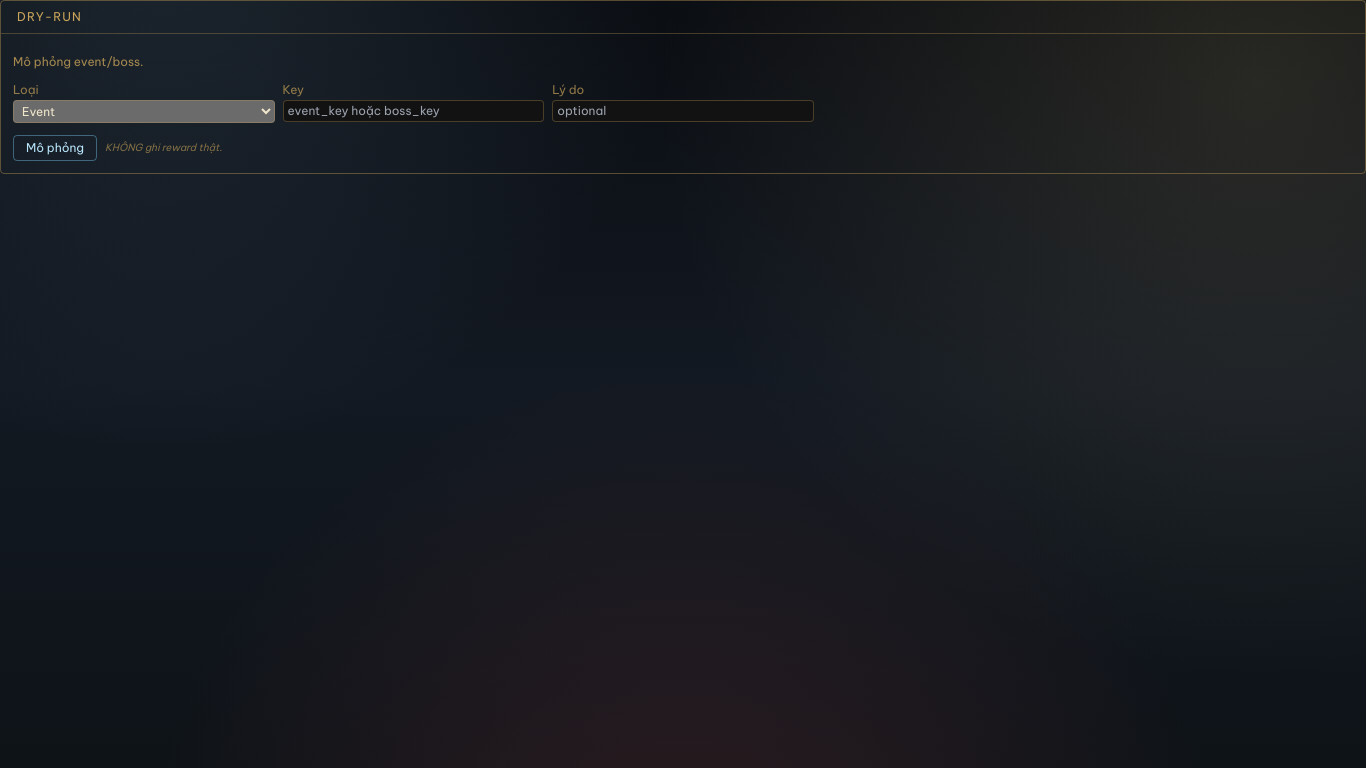
Test case: AdminLiveOpsDryRunPanel › submit boss dry-run: gọi adminLiveOpsDryRun với { kind:"boss", key, regionKey, level, reason } + render boss result
Select "Boss" in the dropdown with test id "admin-liveops-dryrun-kind" at (144, 112), box [13,100,275,123]
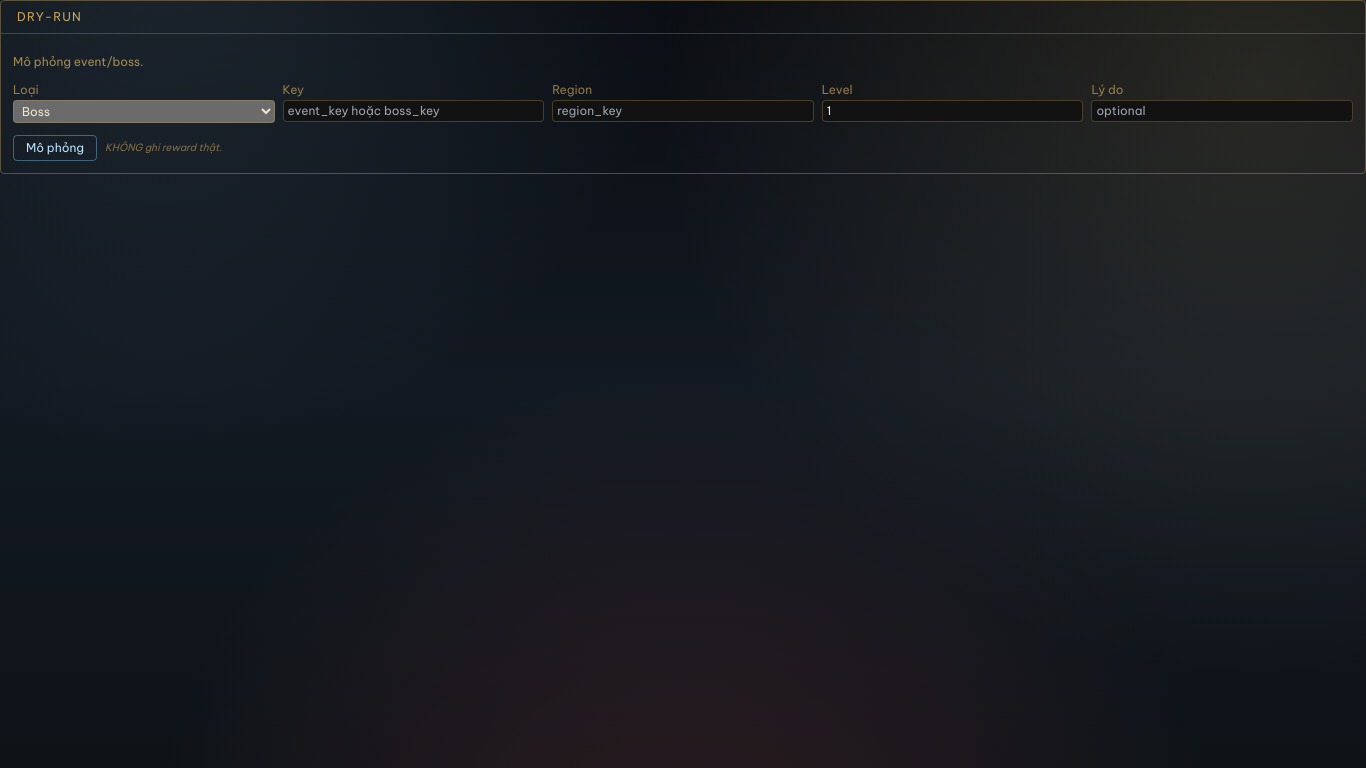
Type "sky_dragon" into the field with test id "admin-liveops-dryrun-key" at (413, 111), box [283,100,544,122]
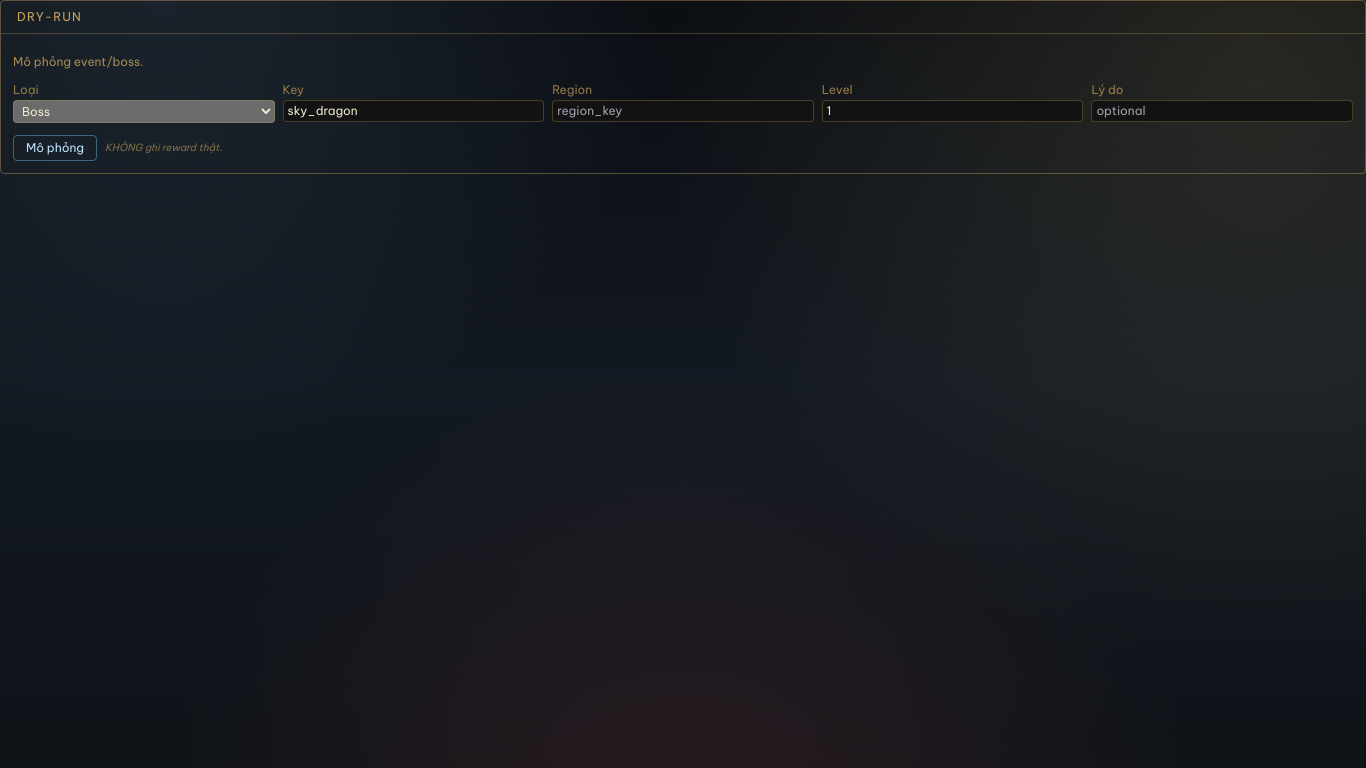
Type "son_coc" into the field with test id "admin-liveops-dryrun-region" at (683, 111), box [552,100,814,122]
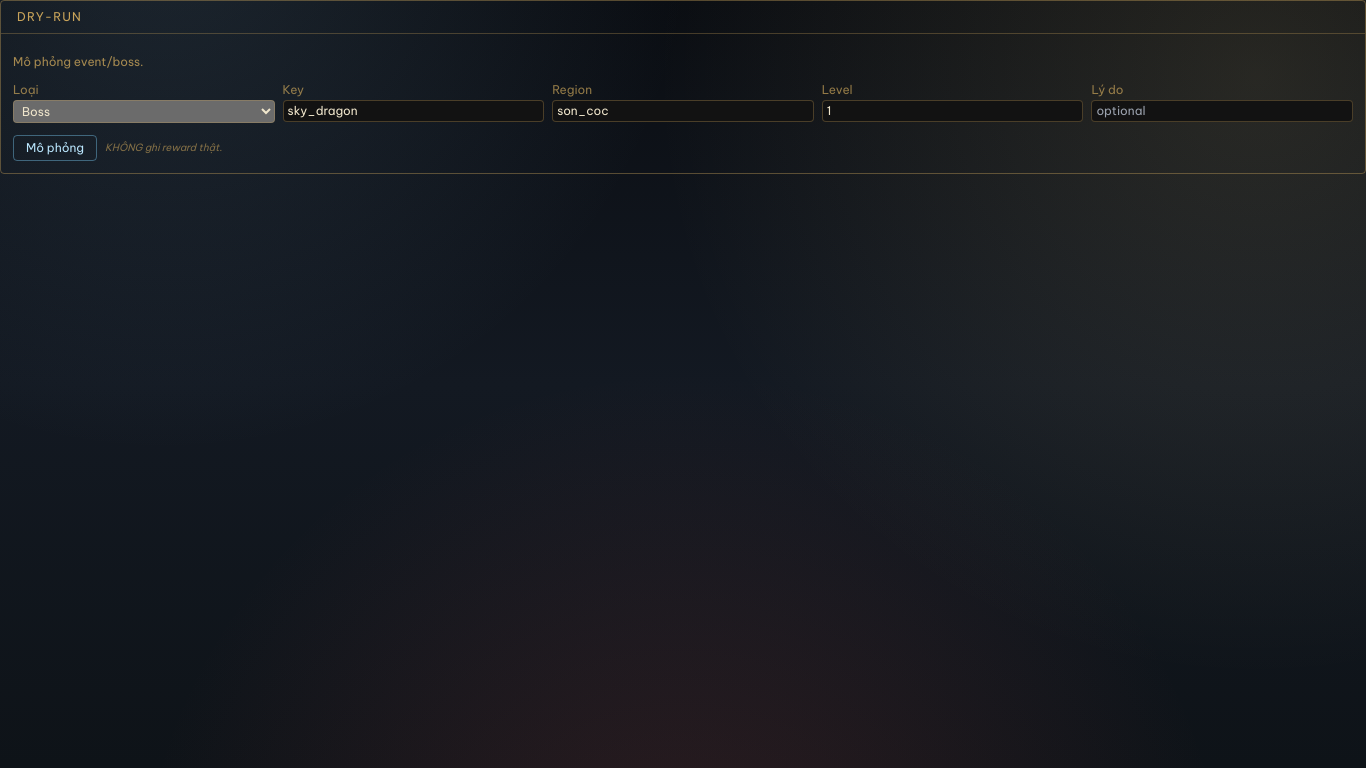
Replace the text in the number field with test id "admin-liveops-dryrun-level" with "5" at (953, 111), box [822,100,1083,122]
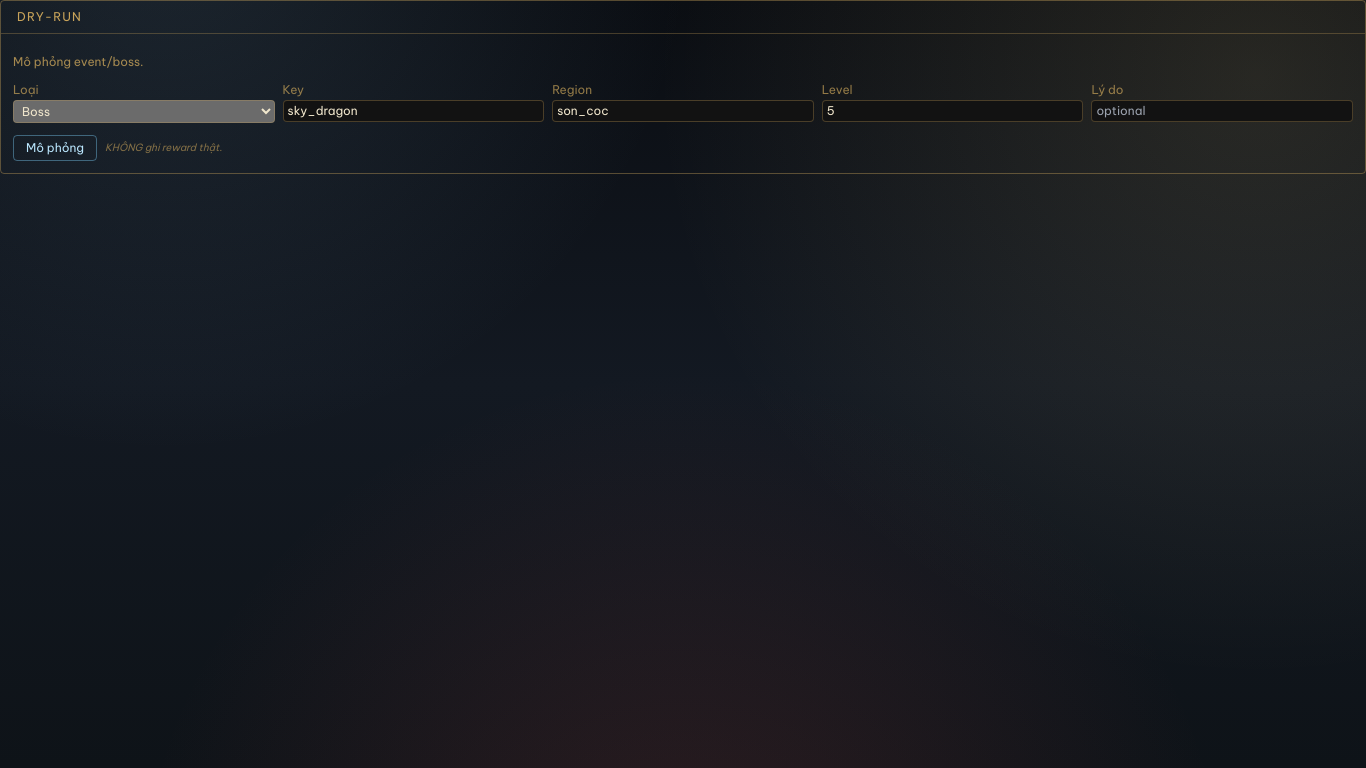
Type "preview boss" into the field with test id "admin-liveops-dryrun-reason" at (1222, 111), box [1091,100,1353,122]
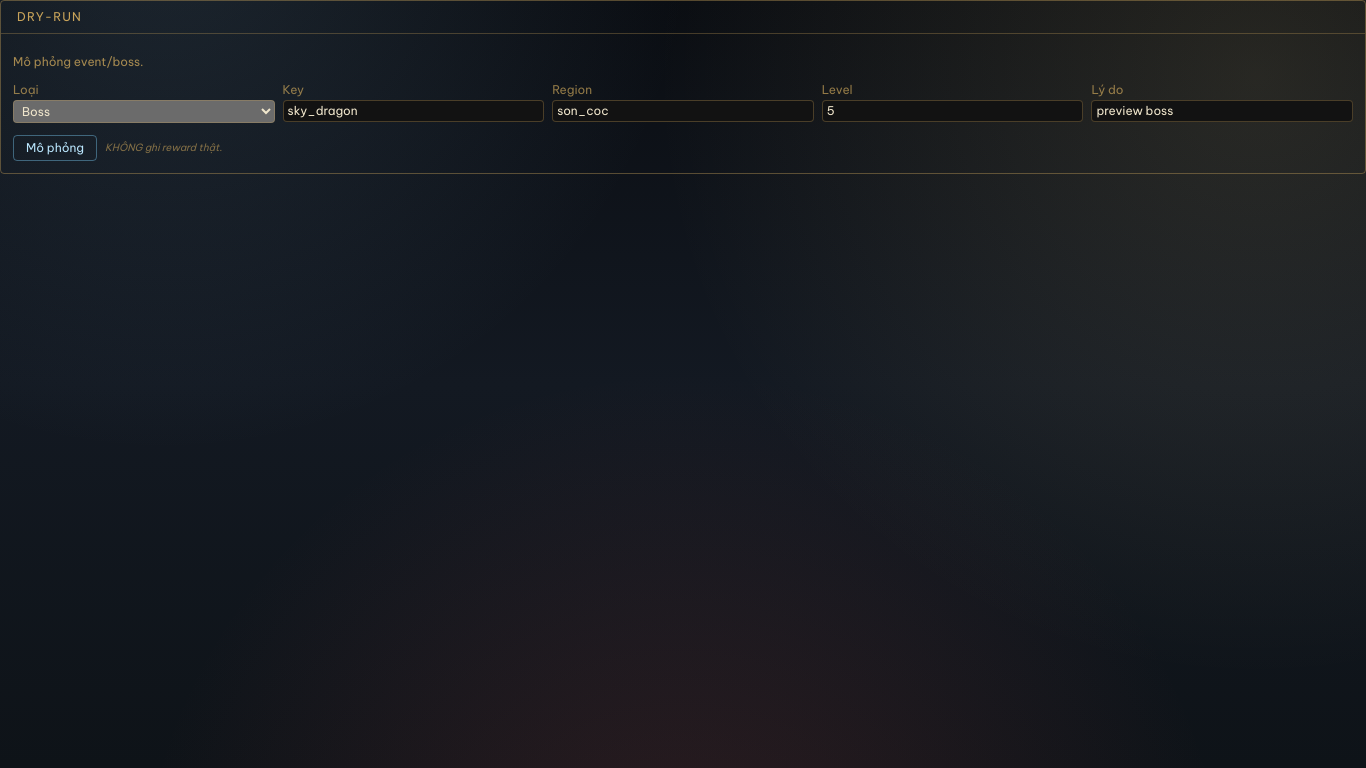
Click the button with test id "admin-liveops-dryrun-submit" at (55, 148), box [13,135,97,161]
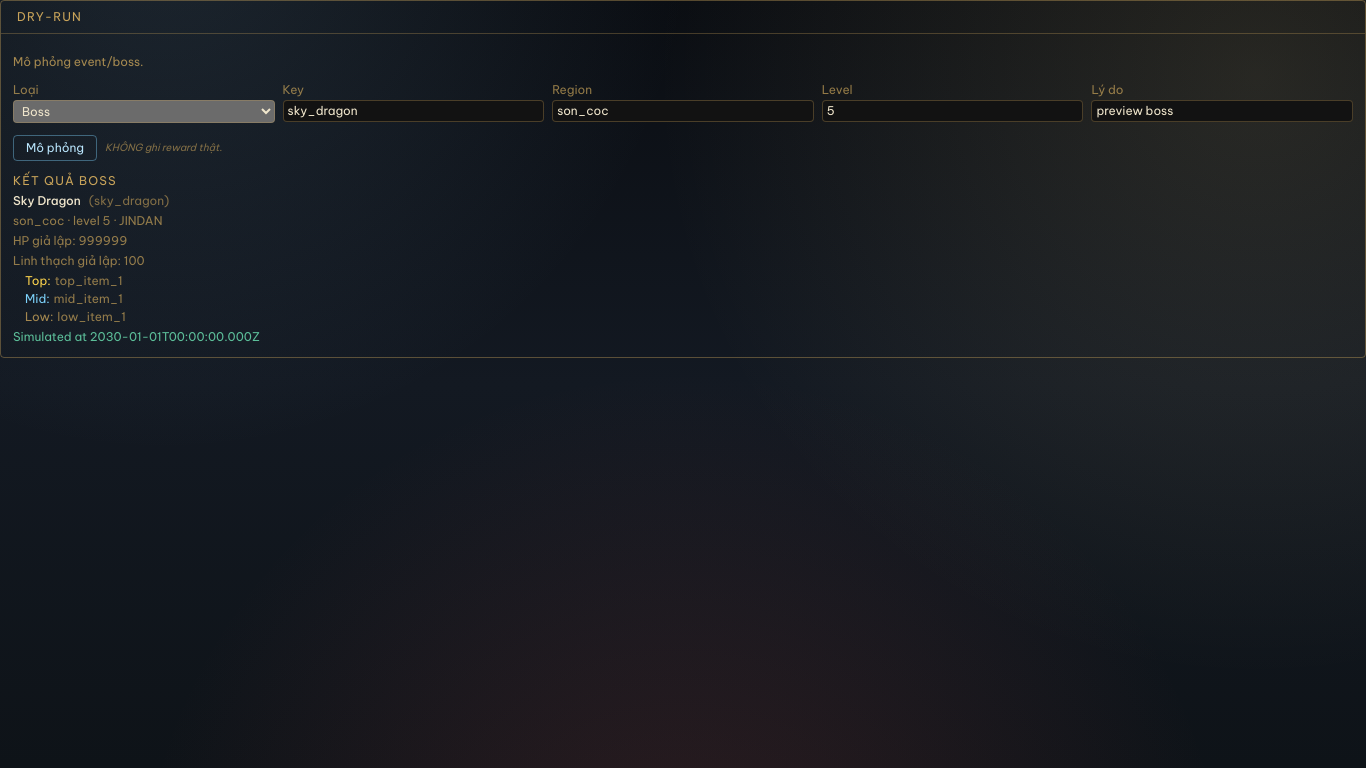
Now the element with test id "admin-liveops-dryrun-result-boss" is shown, box [13,173,260,344]
Now the text "Sky Dragon" is shown, box [13,193,81,208]
Now the text "999999" is shown, box [13,233,127,248]
